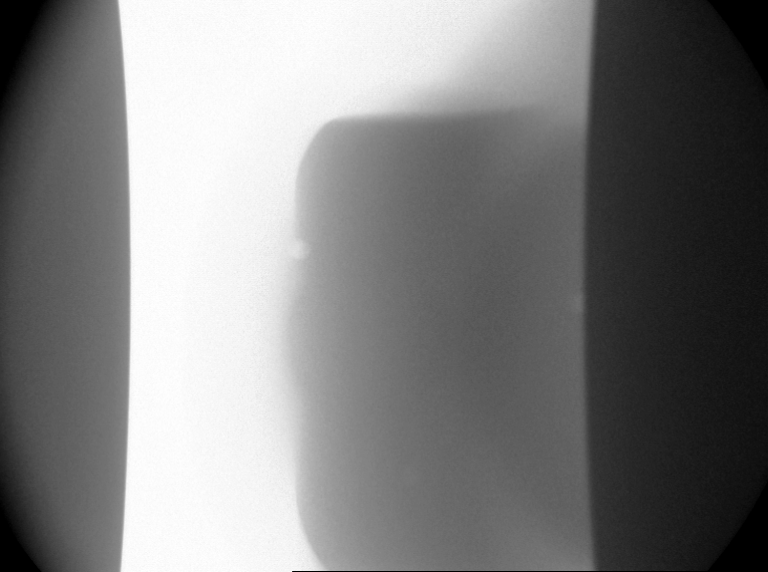defect: (287, 236, 313, 261)
